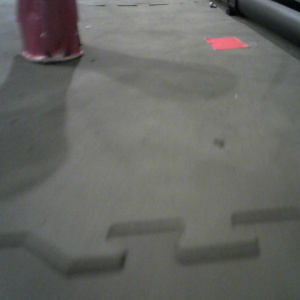Middle: (18, 1, 82, 62)
